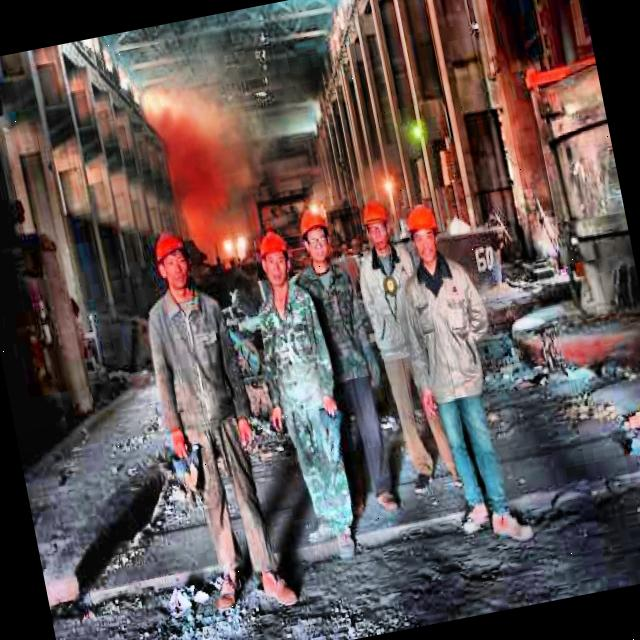helmet: (146, 224, 200, 298), (400, 198, 448, 270), (253, 226, 296, 290), (295, 202, 336, 266), (358, 197, 396, 258)
